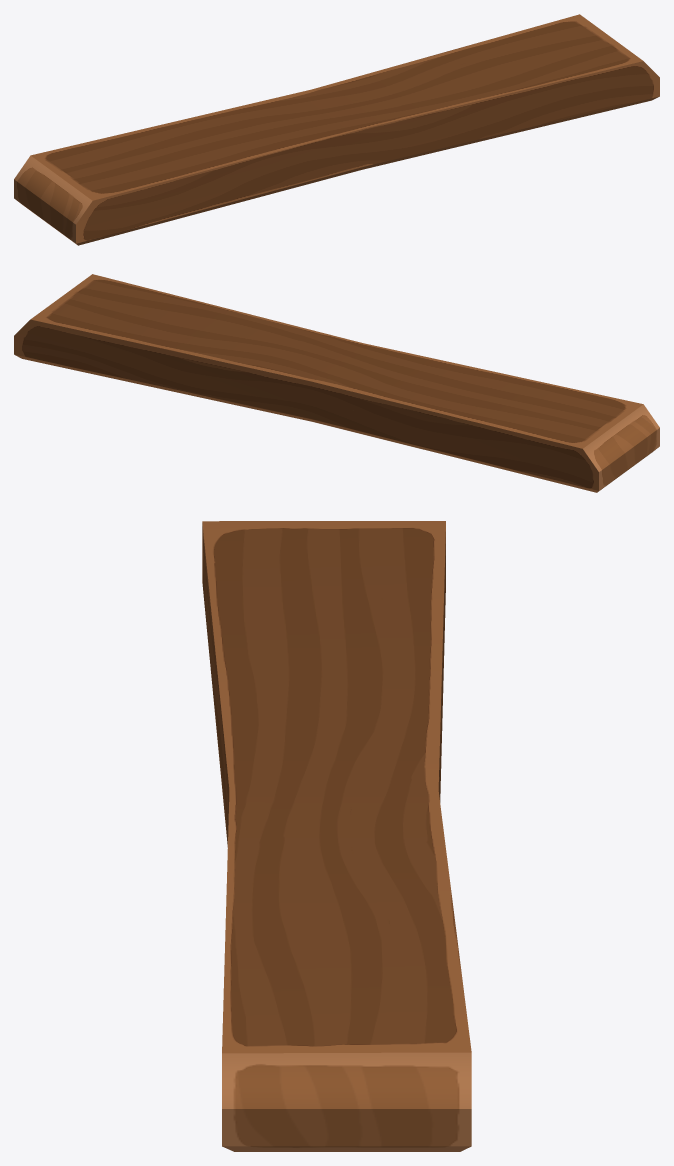
The model's file is TablonGrande2.fbx.
The picture shows the model from 3 angles, top to bottom: view 1: azimuth 30°, elevation 25°; view 2: azimuth 150°, elevation 25°; view 3: azimuth 270°, elevation 25°; orthographic projection. The views are drawn at different scales.
Visible parts, largest first — view 1: TablonGrande2; view 2: TablonGrande2; view 3: TablonGrande2.
Boxes of the visible parts, bbox=[...] form: TablonGrande2: bbox=[14, 14, 659, 245]; TablonGrande2: bbox=[14, 274, 659, 492]; TablonGrande2: bbox=[202, 521, 471, 1151].
Size of the model in its own units: 3.66 by 0.267 by 0.7384.
